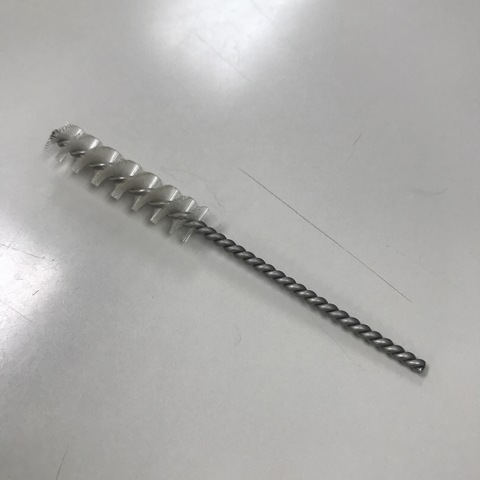Twist Brush-B: (32, 118, 429, 379)
